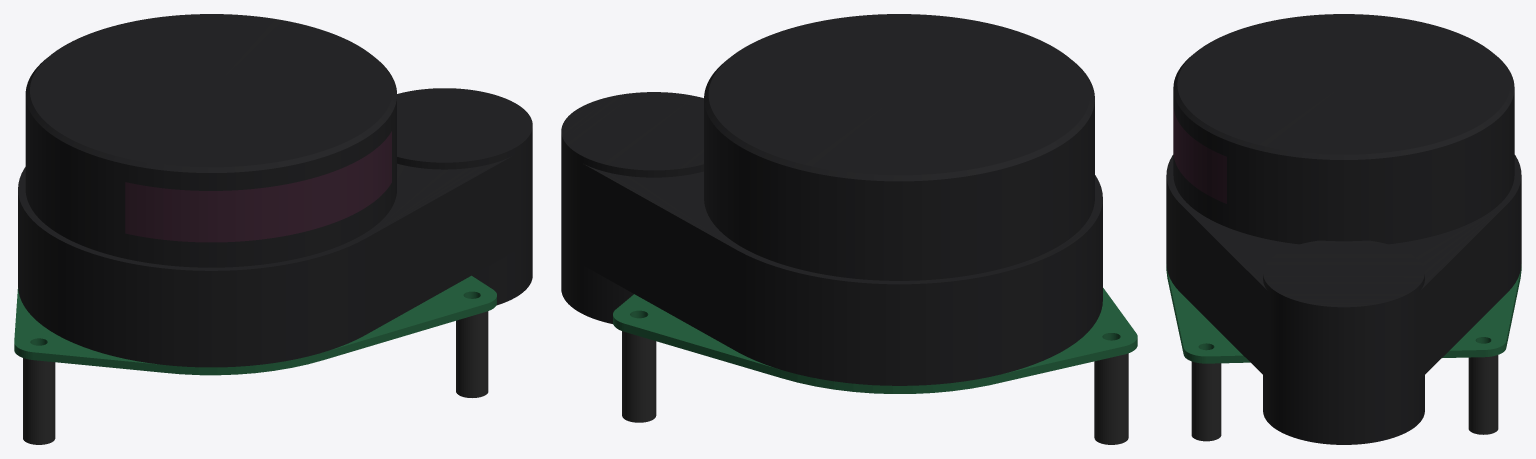
File: ydlidar-x4-pro.glb
3 views of the same model, side by side, from view 1: azimuth 30°, elevation 25°; view 2: azimuth 150°, elevation 25°; view 3: azimuth 270°, elevation 25° (orthographic). The views are drawn at different scales.
Parts seen in each view (by area): view 1: ydlidar-x4-pro; view 2: ydlidar-x4-pro; view 3: ydlidar-x4-pro.
Part boxes in pixels (<box>): ydlidar-x4-pro: <box>14,14,532,444</box>; ydlidar-x4-pro: <box>561,14,1137,444</box>; ydlidar-x4-pro: <box>1166,14,1521,444</box>.
Bounding box in the file's own units: 111 × 59.4 × 71.5.
